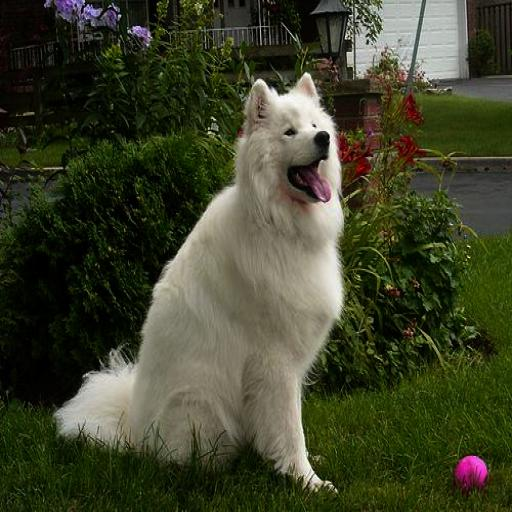dog_face: (239, 72, 345, 231)
